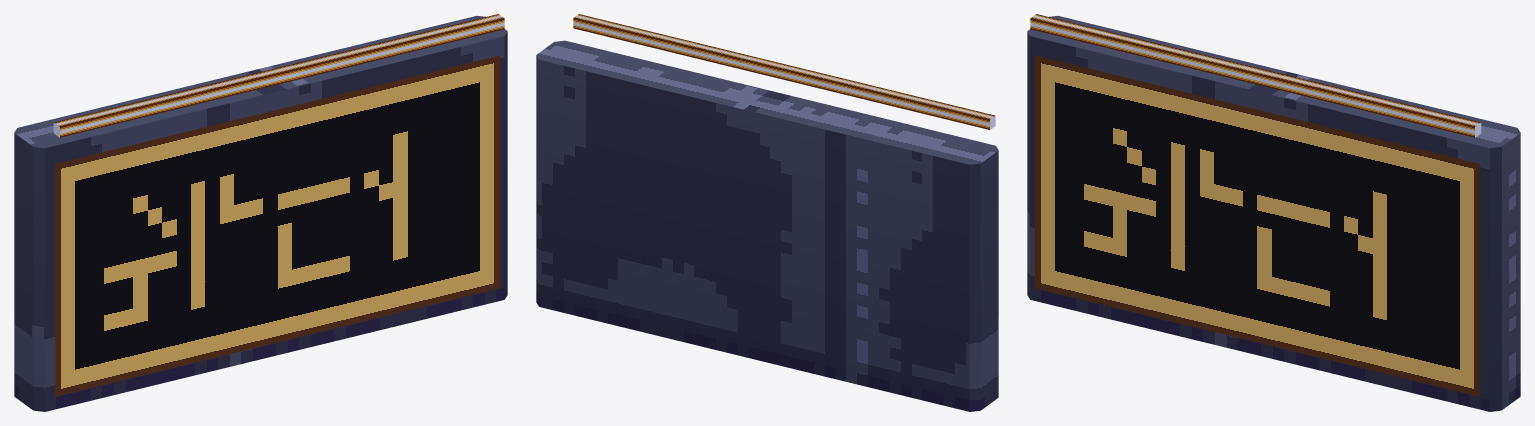
File: cysign.frame__amber.glb
3 views of the same model, side by side, from view 1: azimuth 30°, elevation 25°; view 2: azimuth 150°, elevation 25°; view 3: azimuth 330°, elevation 25° (orthographic). The views are drawn at different scales.
Visible parts, largest first — view 1: kit_card_face, kit_box, kit_neon; view 2: kit_box, kit_neon; view 3: kit_card_face, kit_box, kit_neon.
Part boxes in pixels (x1,y1,x2,y2): kit_card_face: [55, 55, 499, 396]; kit_box: [14, 16, 507, 411]; kit_neon: [53, 14, 504, 137]; kit_box: [536, 40, 998, 411]; kit_neon: [573, 14, 995, 129]; kit_card_face: [1035, 55, 1479, 396]; kit_box: [1027, 16, 1520, 411]; kit_neon: [1030, 14, 1481, 137].
Size of the model in its own units: 2.56 by 1.49 by 0.3283.
Materials: 3 (3 with a texture image).
